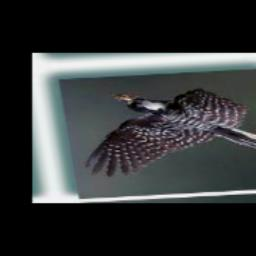Woodpecker: (63, 82, 256, 183)
